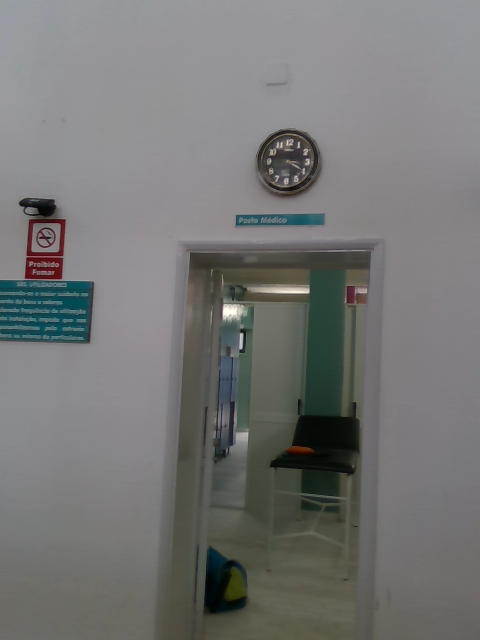open: (154, 241, 384, 639)
